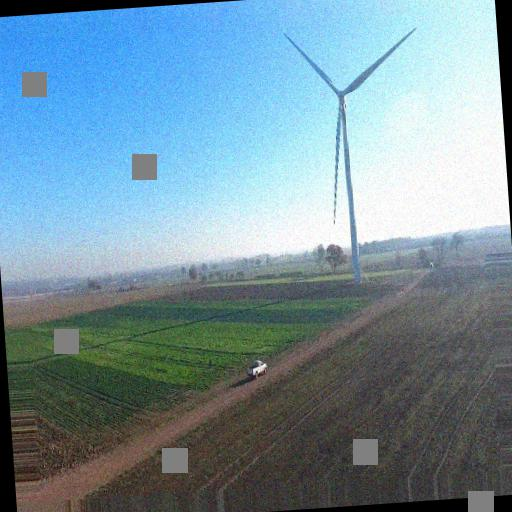wind turbine: (283, 29, 421, 283)
